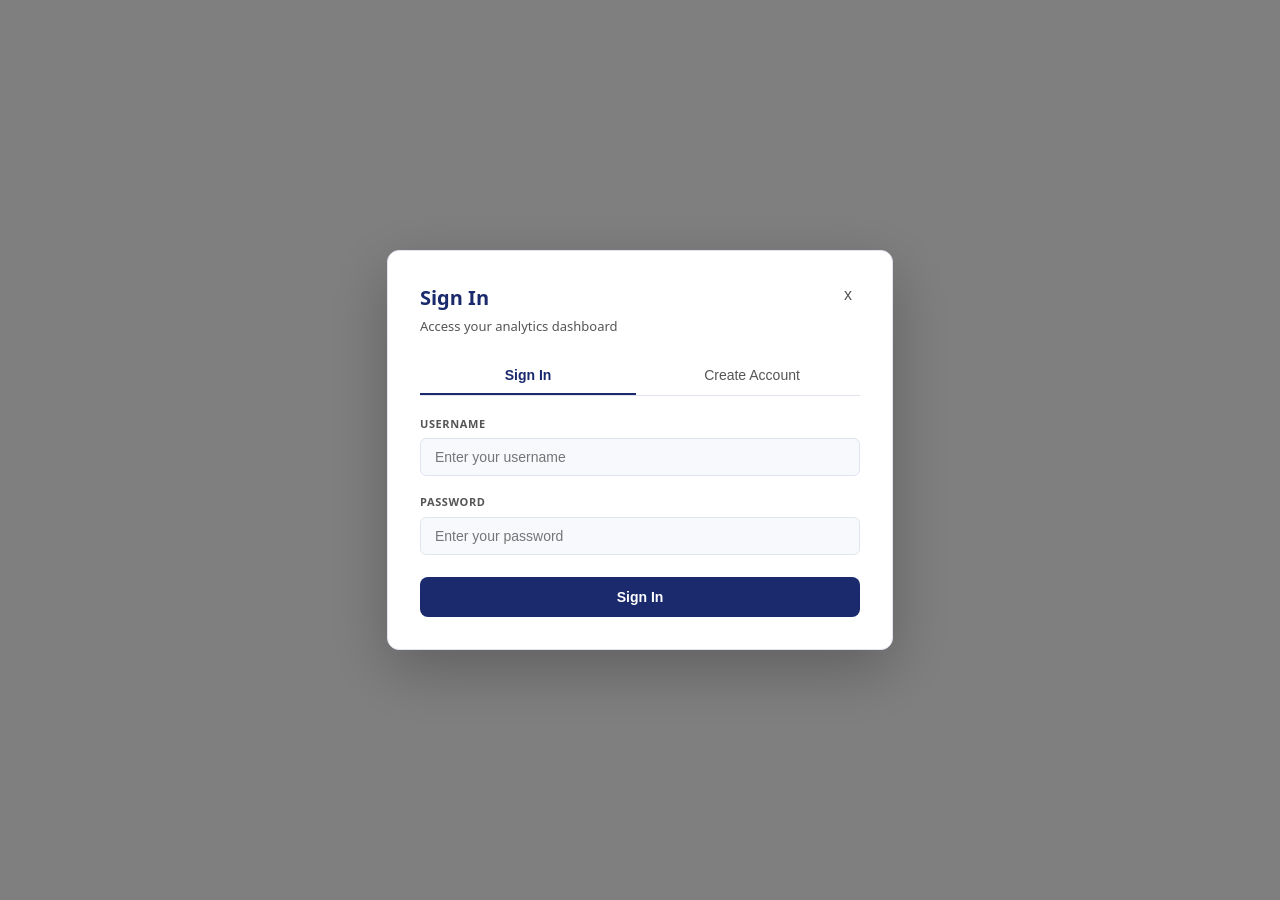
Test: LoginModel › switches to Create Account mode when the tab is clicked
Click the button "Create Account". click: (752, 376)
box: top-left (644, 357), bottom-right (860, 395)
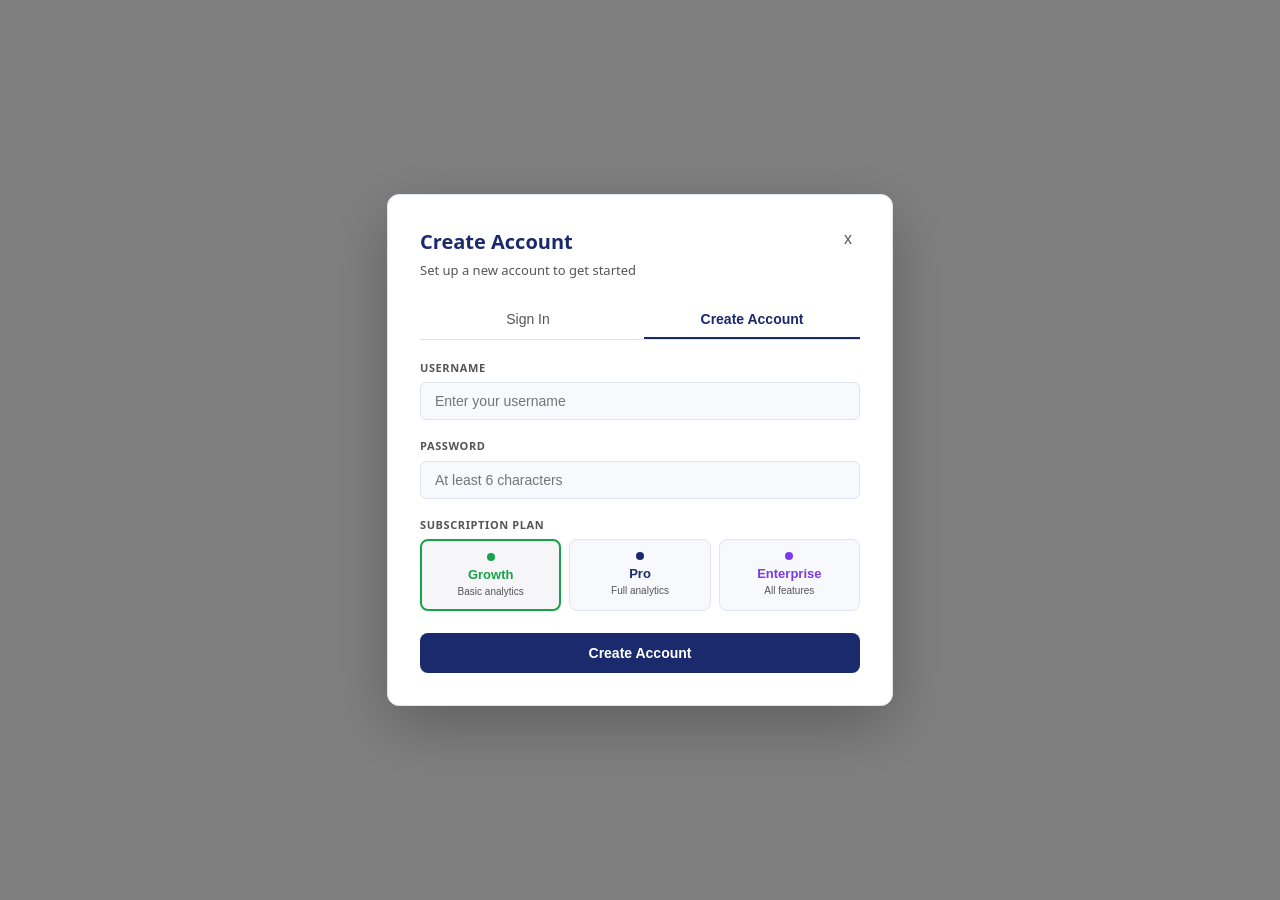
Expected: the heading "Create Account" is shown, top-left (420, 228), bottom-right (573, 255)
Expected: the text "Subscription Plan" is shown, top-left (420, 516), bottom-right (544, 532)
